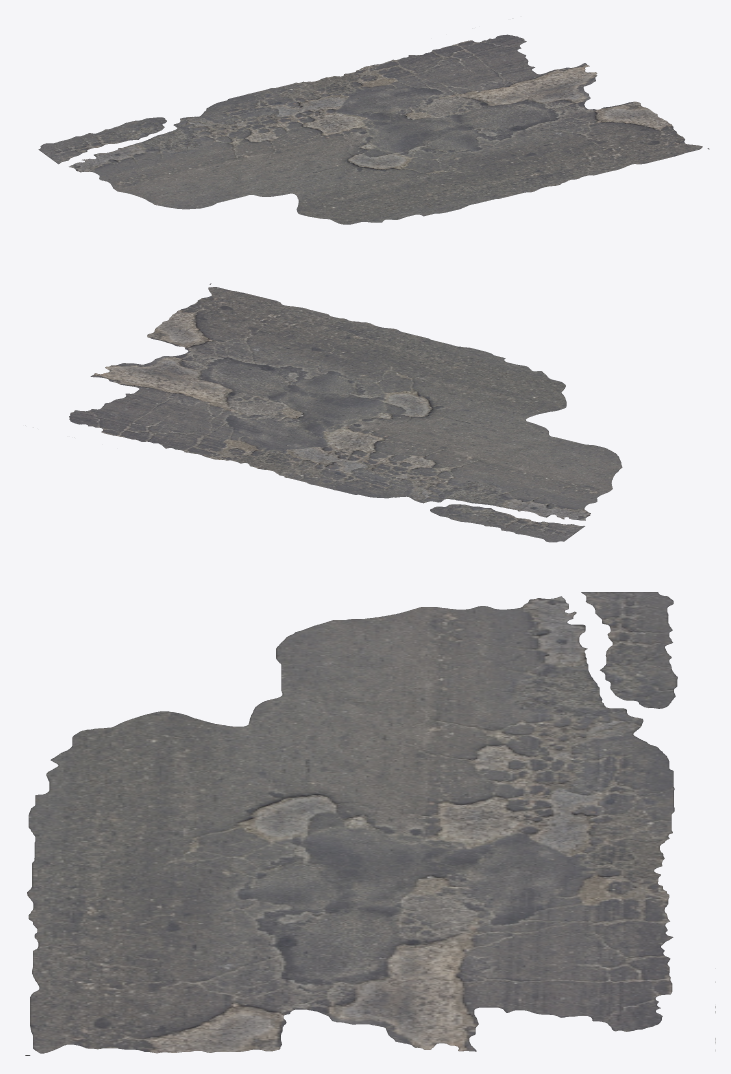
File: HH_Decal_Asphalt_02.fbx
3 views of the same model, one above another, from view 1: azimuth 30°, elevation 25°; view 2: azimuth 150°, elevation 25°; view 3: azimuth 270°, elevation 25° (orthographic). The views are drawn at different scales.
Parts seen in each view (by area): view 1: HH_Decal_Asphalt_02; view 2: HH_Decal_Asphalt_02; view 3: HH_Decal_Asphalt_02.
Boxes of the visible parts, x1,y1,x2,y2 form: HH_Decal_Asphalt_02: (38, 18, 709, 224); HH_Decal_Asphalt_02: (25, 283, 622, 542); HH_Decal_Asphalt_02: (25, 592, 715, 1055).
Size of the model in its own units: 424 by 0 by 265.
